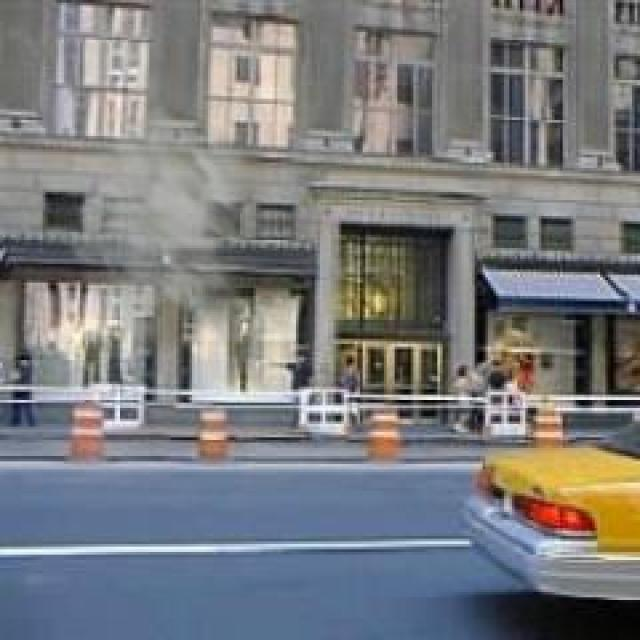smoke: (60, 91, 292, 361)
